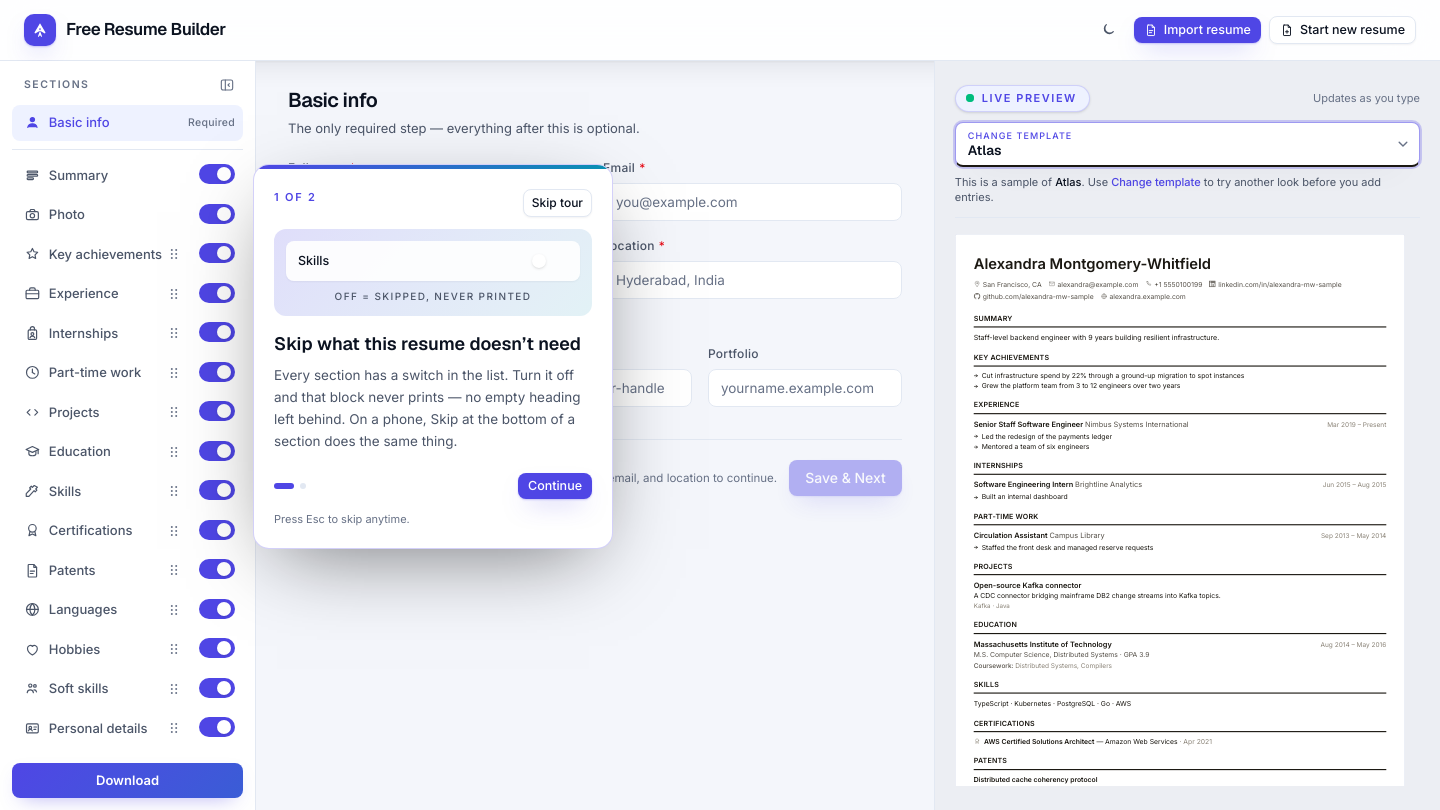
Test: BuilderShell first-run tour › records a skip so an empty draft does not replay the tour
Click the button "Skip tour" at (557, 203), box [523,189,592,217]
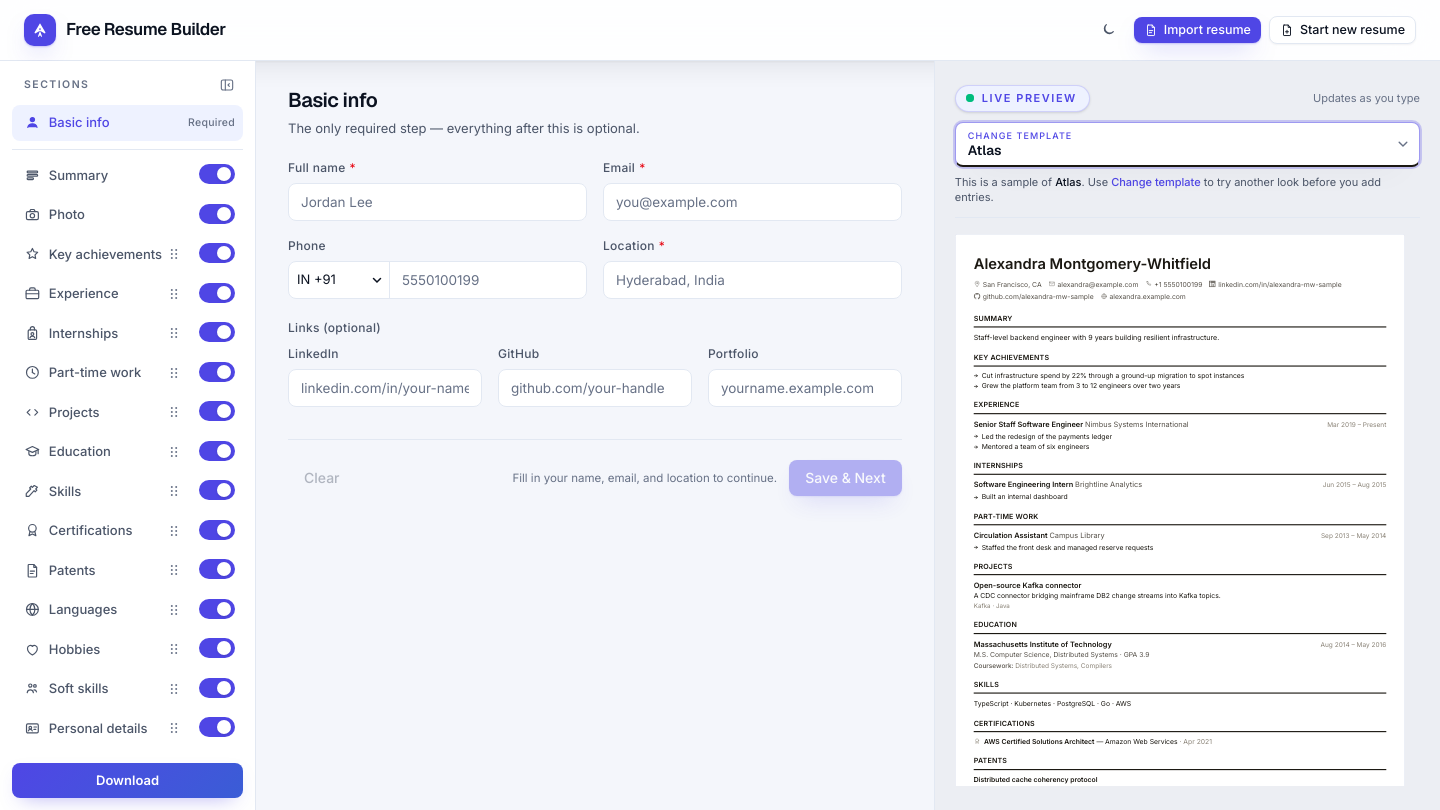
Check: the button "Skip tour" is gone
